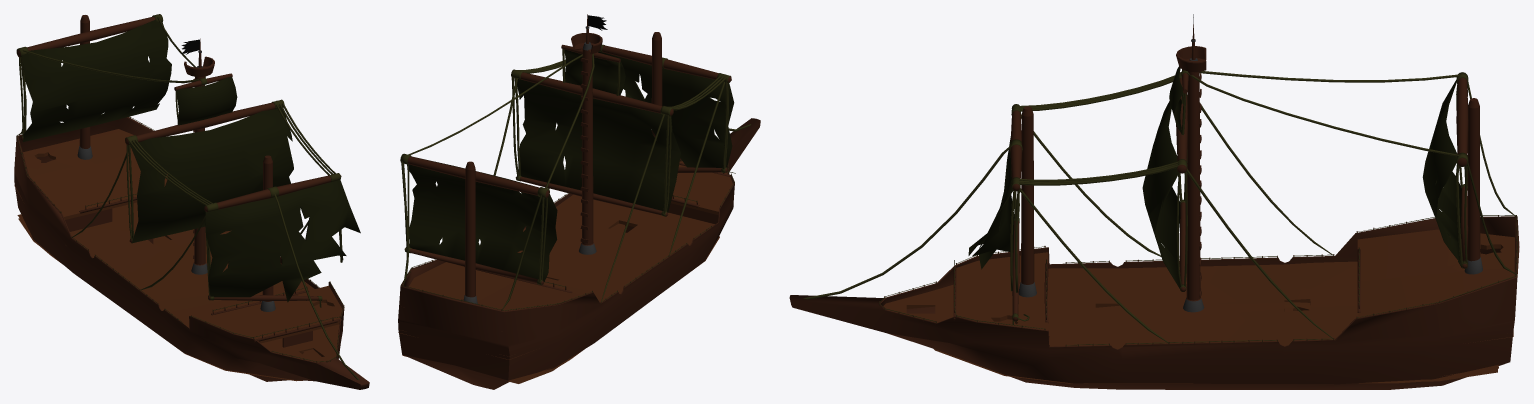
Rendered from NavioV1.fbx.
The picture shows the model from 3 angles, left to right: view 1: azimuth 30°, elevation 25°; view 2: azimuth 150°, elevation 25°; view 3: azimuth 270°, elevation 25°; orthographic projection. The views are drawn at different scales.
Visible parts, largest first — view 1: Casco, Vela, Vela.002, Vela.003, Piso, Piso.002, Cordas, Piso.003, MastroMeio, MastroFrente, Vela.001, MastroTras (+4 smaller); view 2: Casco, Vela, Vela.003, Piso, Vela.002, Cordas, MastroMeio, Piso.002, MastroTras, MastroFrente, Piso.003, Vela.001 (+3 smaller); view 3: Casco, Piso, Cordas, Piso.002, MastroMeio, Piso.003, MastroFrente, Vela, MastroTras, Vela.003, Cerca, Vela.002 (+1 smaller).
Boxes of the visible parts, x1,y1,x2,y2 form: Casco: (14,117,369,389); Vela: (130,108,293,243); Vela.002: (205,180,360,302); Vela.003: (22,19,171,141); Piso: (14,185,339,362); Piso.002: (23,129,167,219); Cordas: (19,16,359,380); Piso.003: (196,286,342,343); MastroMeio: (125,38,284,274); MastroFrente: (204,155,341,311); Vela.001: (176,77,237,125); MastroTras: (16,14,163,159); Casco: (398,118,760,389); Vela: (517,79,680,212); Vela.003: (409,157,557,282); Piso: (398,161,727,359); Vela.002: (598,51,734,167); Cordas: (401,46,750,309); MastroMeio: (511,14,673,254); Piso.002: (408,262,582,311); MastroTras: (400,153,549,303); MastroFrente: (599,32,731,172); Piso.003: (671,164,732,214); Vela.001: (564,49,625,95); Casco: (789,216,1519,389); Piso: (883,261,1513,349); Cordas: (803,71,1516,343); Piso.002: (1357,229,1514,317); MastroMeio: (1176,24,1206,312); Piso.003: (956,252,1048,330); MastroFrente: (1009,104,1036,321); Vela: (1142,101,1180,289); MastroTras: (1456,72,1482,274); Vela.003: (1422,79,1462,268); Cerca: (879,215,1517,346); Vela.002: (968,136,1014,269).
Size of the model in its own units: 4071 by 7150 by 13247.
